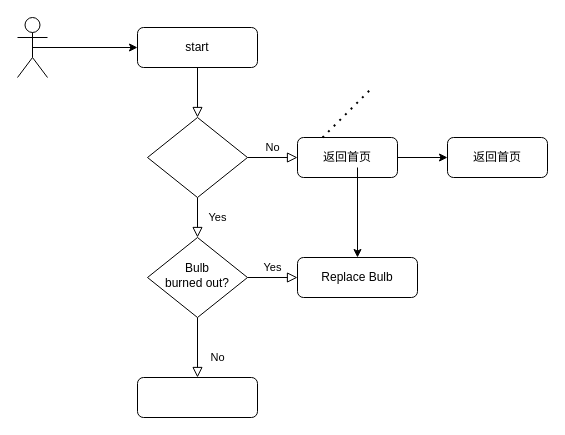
Some shapes in this 565 by 435 pixel diagram are drawn without their labels. Here are the shapes that lost their labels. From the top down, the centre of each, then its label:
At point 32,47: "Actor".
At point 197,157: "提交订单".
At point 197,397: "Repair Lamp".
